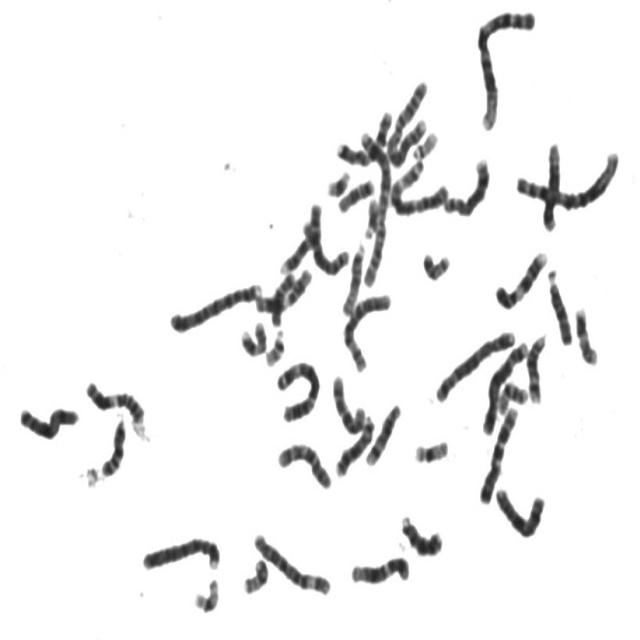A1: (473, 0, 539, 133), (512, 140, 623, 213)
A2: (356, 113, 394, 288), (383, 70, 432, 170)
A3: (386, 150, 452, 217), (273, 351, 323, 424)
B4: (167, 272, 266, 336), (138, 528, 224, 572)
B5: (432, 321, 520, 404), (478, 331, 531, 438)
C10: (274, 432, 336, 492), (328, 366, 370, 436)
C11: (82, 371, 149, 433), (252, 260, 315, 314)
C12: (347, 547, 414, 587), (539, 133, 564, 233)
C6: (250, 524, 335, 598), (339, 284, 395, 373)
C7: (476, 399, 522, 506), (332, 100, 396, 168)
C8: (301, 201, 353, 277), (439, 148, 493, 218)
C9: (492, 242, 552, 311), (276, 193, 326, 275)
D13: (332, 407, 379, 480), (398, 506, 447, 558)
D14: (362, 395, 406, 468), (523, 326, 550, 404)
D15: (544, 260, 576, 347), (339, 233, 369, 318)
E16: (97, 410, 129, 480), (494, 376, 530, 418)
E17: (571, 298, 602, 368), (237, 312, 270, 359)
E18: (268, 263, 299, 327), (334, 170, 378, 213)
F19: (410, 430, 452, 466), (190, 569, 222, 615)
F20: (239, 549, 272, 596), (418, 243, 455, 283)
G21: (323, 160, 353, 198), (362, 190, 381, 240)
G22: (261, 321, 288, 368), (409, 123, 441, 161)
X: (491, 478, 549, 540), (15, 396, 82, 442)
